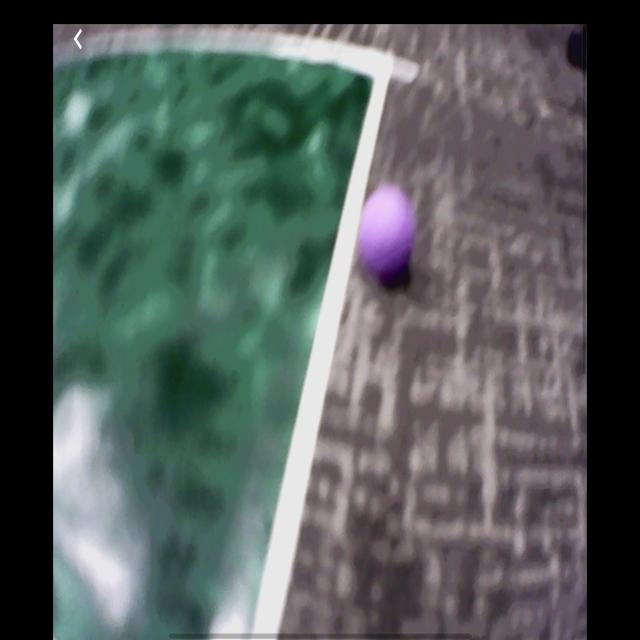ball: (358, 182, 419, 291)
